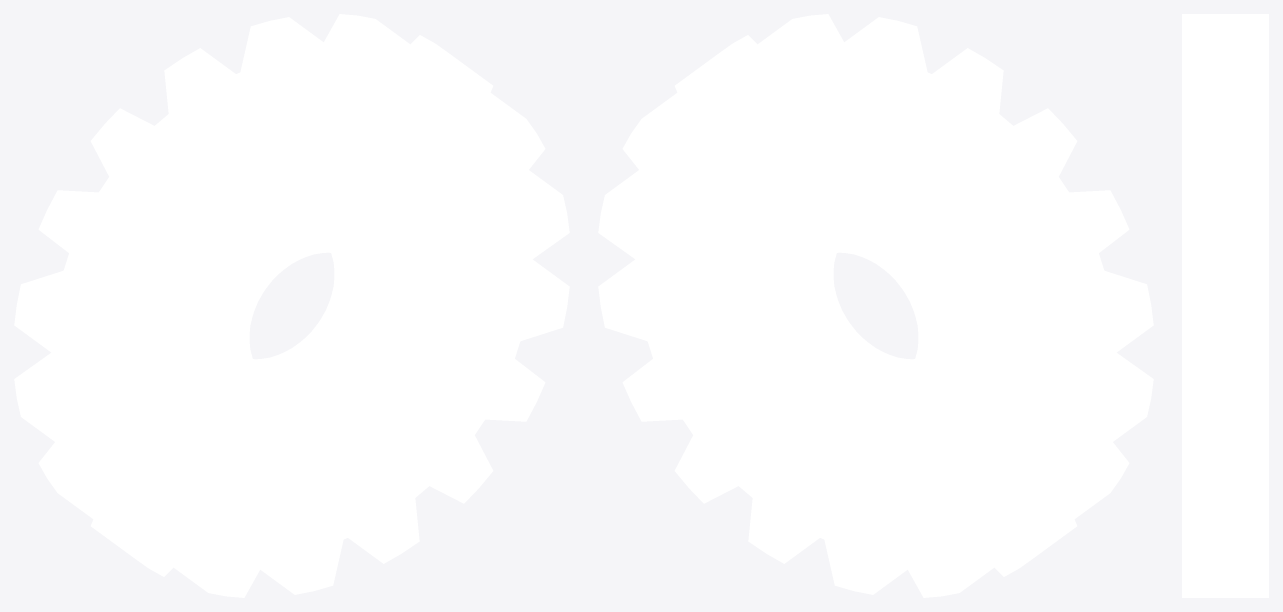
Rendered from gear.glb.
The picture shows the model from 3 angles, left to right: view 1: azimuth 30°, elevation 25°; view 2: azimuth 150°, elevation 25°; view 3: azimuth 270°, elevation 25°; orthographic projection.
Parts seen in each view (by area): view 1: gear; view 2: gear; view 3: gear.
Part boxes in pixels (x1,y1,x2,y2): gear: (14,14,569,597); gear: (598,14,1153,597); gear: (1182,14,1268,597).
Bounding box in the file's own units: 2.35 × 2.37 × 0.3514.
Materials: 1 (1 with a texture image).
